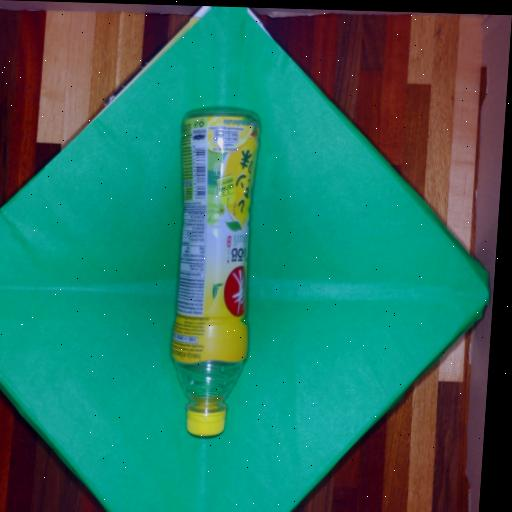bottle: (162, 111, 264, 442)
